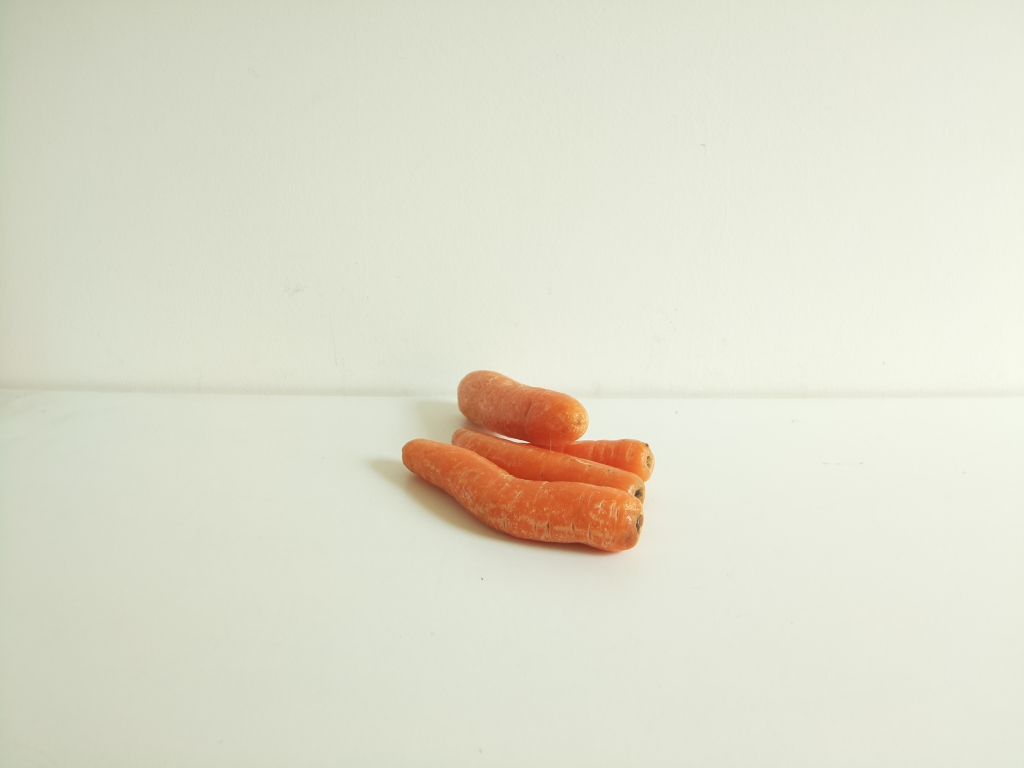carrot: (401, 373, 656, 554)
